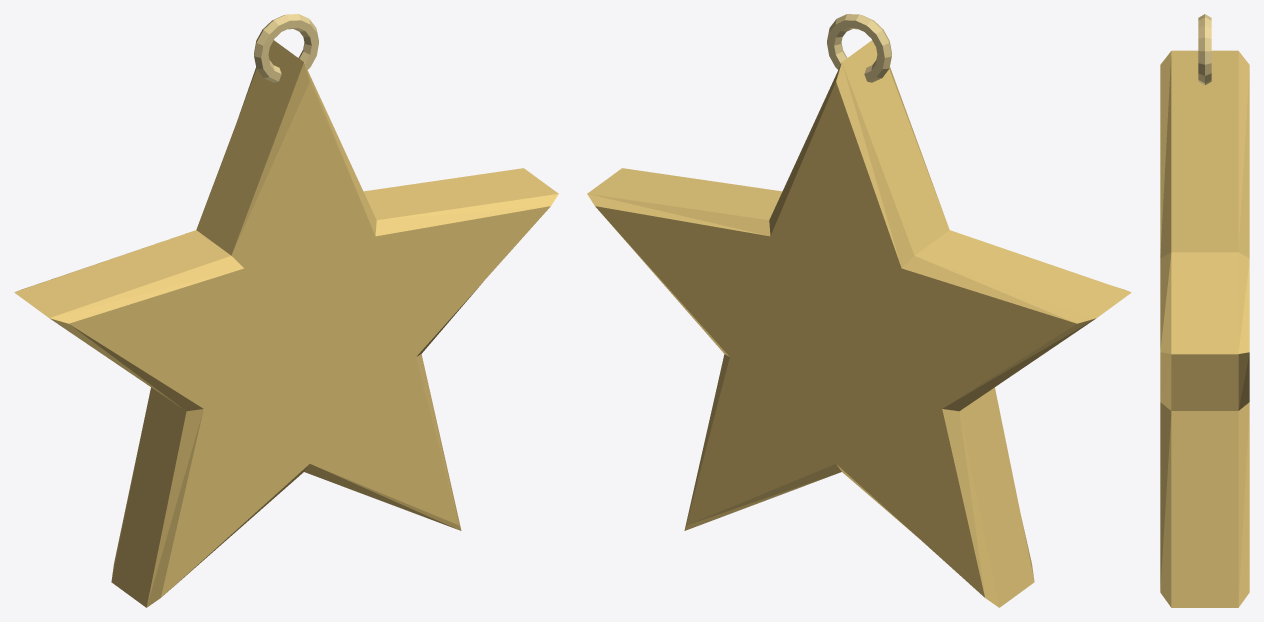
Rendered from star-gold-4in.glb.
The picture shows the model from 3 angles, left to right: view 1: azimuth 30°, elevation 25°; view 2: azimuth 150°, elevation 25°; view 3: azimuth 270°, elevation 25°; orthographic projection. The views are drawn at different scales.
Parts seen in each view (by area): view 1: star; view 2: star; view 3: star.
Boxes of the visible parts, x1,y1,x2,y2 form: star: [14, 14, 558, 607]; star: [587, 14, 1131, 607]; star: [1160, 14, 1249, 607].
Bounding box in the file's own units: 0.1 × 0.1016 × 0.0159.
